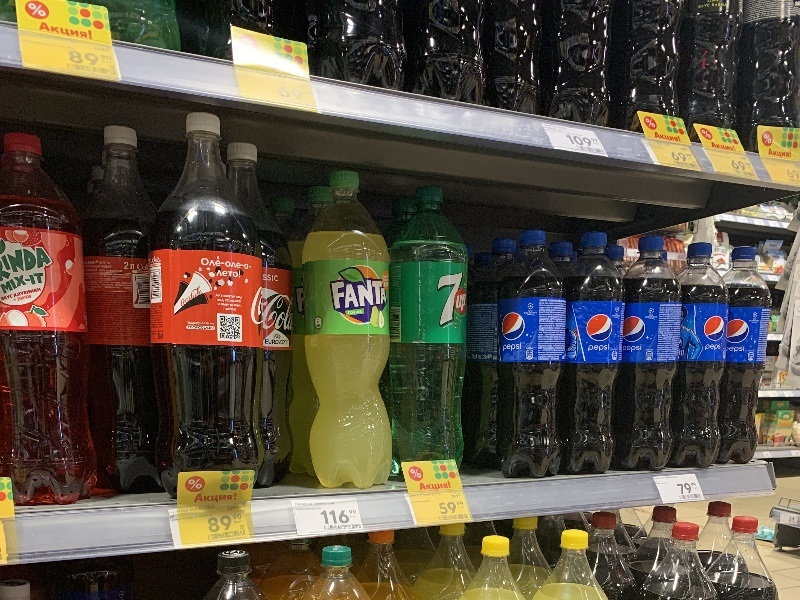lemonade: (128, 113, 262, 508), (296, 165, 402, 495), (382, 180, 475, 480), (493, 226, 570, 482), (610, 235, 680, 479), (556, 226, 619, 482), (672, 235, 727, 477), (725, 242, 773, 476)
